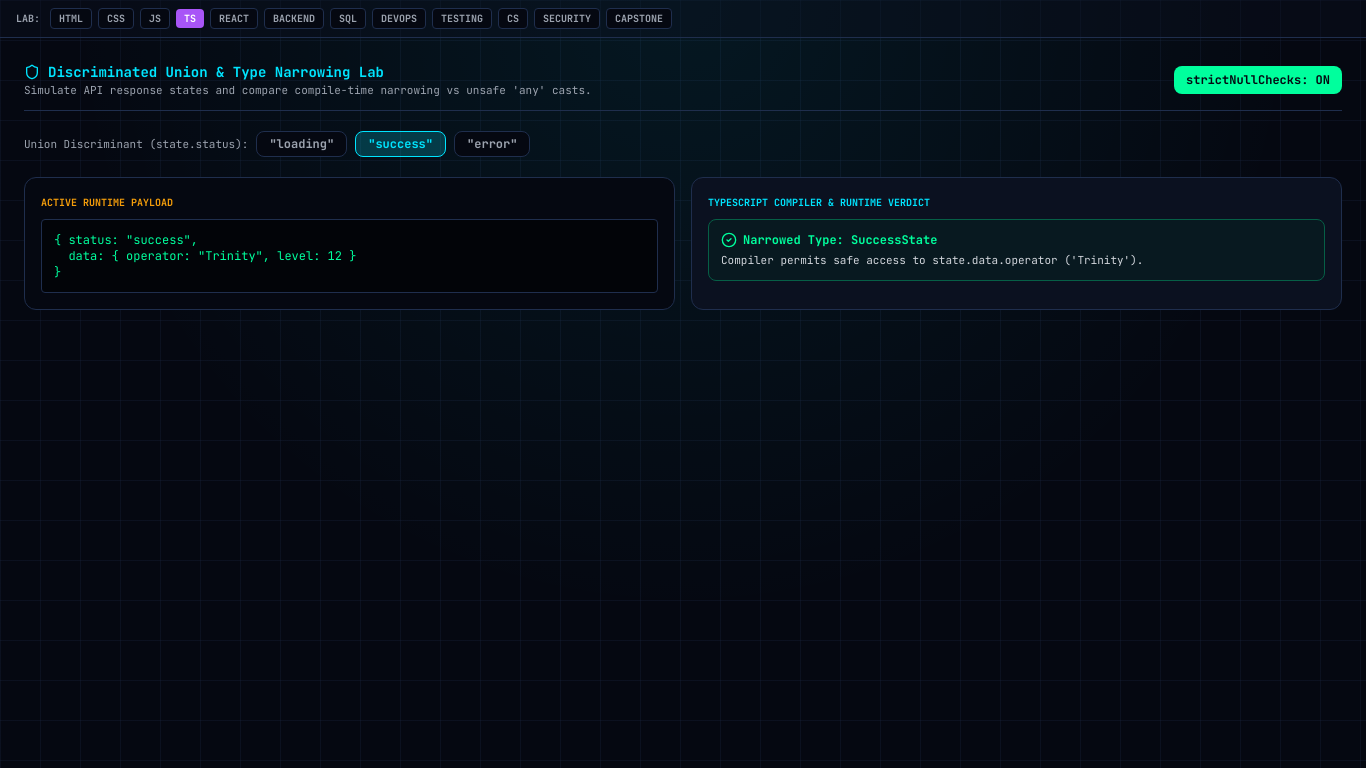
Test: RealmConceptVisualizer Component › switches to TypeScript lab and tests discriminated union type narrowing
The image size is (1366, 768).
expect the heading "Discriminated Union & Type Narrowing Lab" is shown: met, box [24,63,384,81]
// Toggle to "loading" status
Click the button "\"loading\"": click(302, 144) [256,131,347,157]
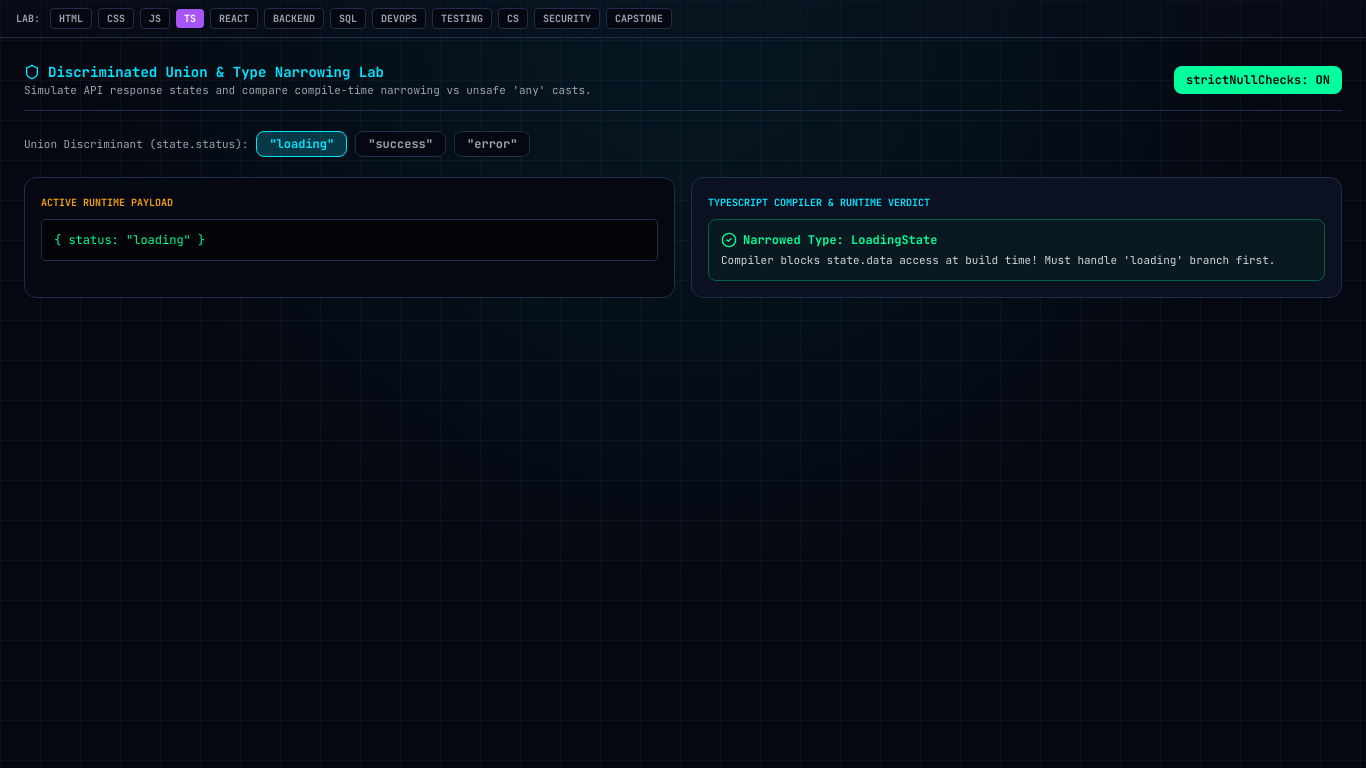
expect the text "Narrowed Type: LoadingState" is shown: met, box [721,232,937,248]
// Toggle to "error" status
Click the button "\"error\"": click(492, 144) [454,131,530,157]
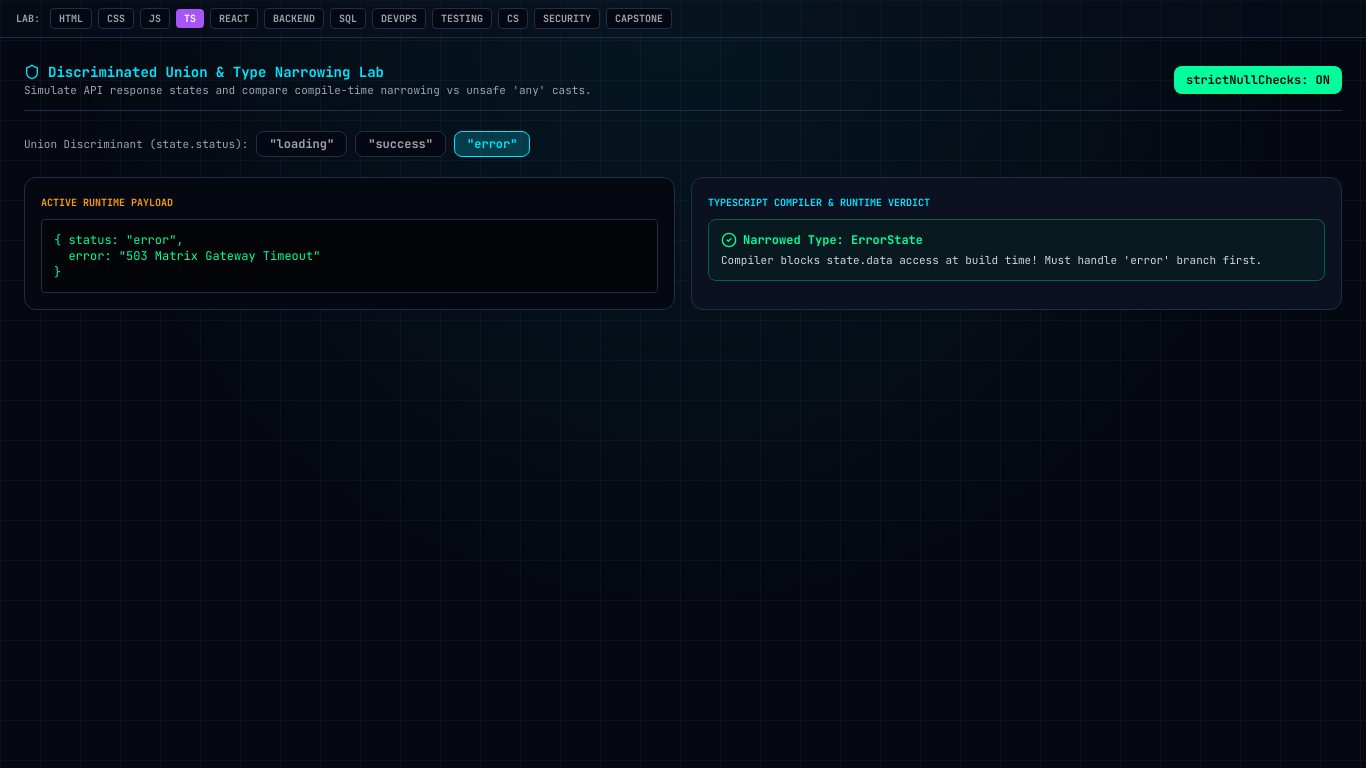
expect the text "Narrowed Type: ErrorState" is shown: met, box [721,232,923,248]
// Toggle strict mode off (unsafe any mode)
Click the button "strictNullChecks: ON": click(1258, 80) [1174,66,1342,94]
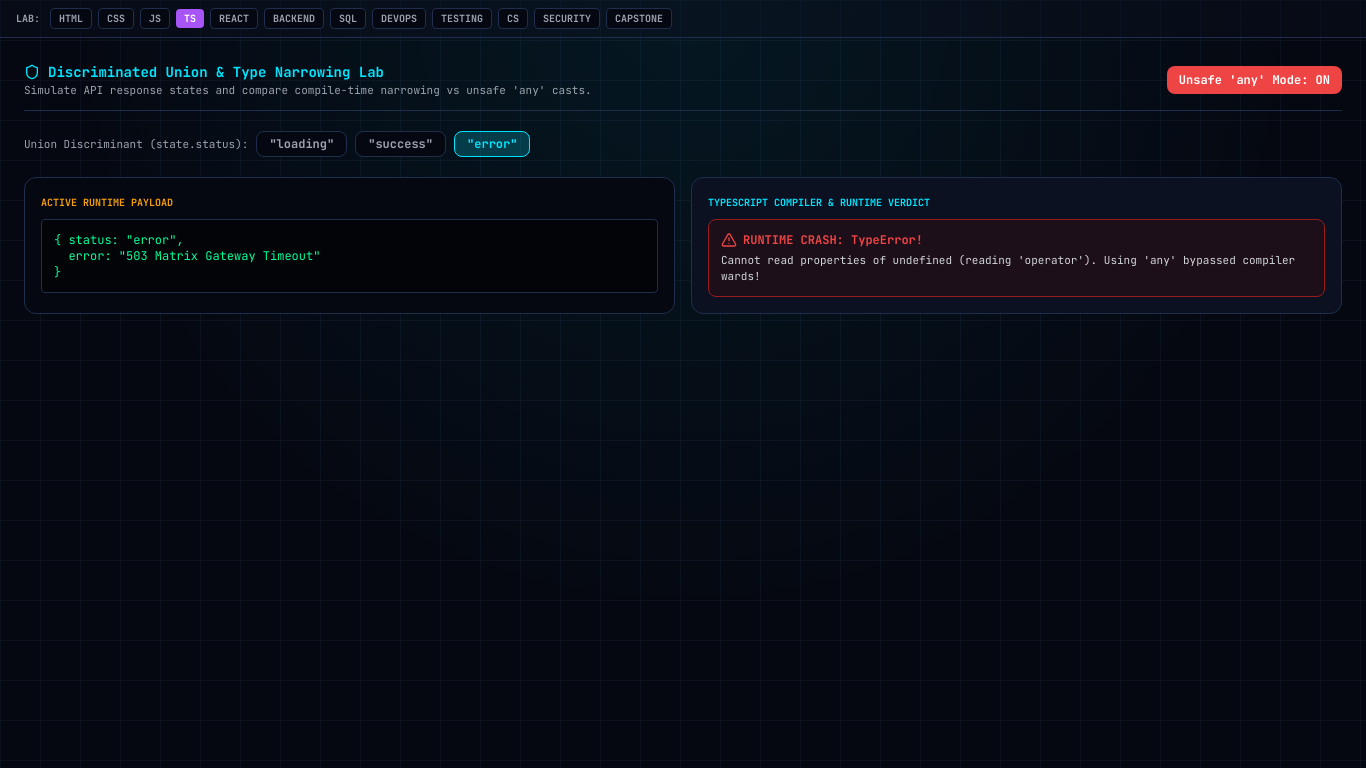
expect the button "Unsafe 'any' Mode: ON" is shown: met, box [1167,66,1342,94]
